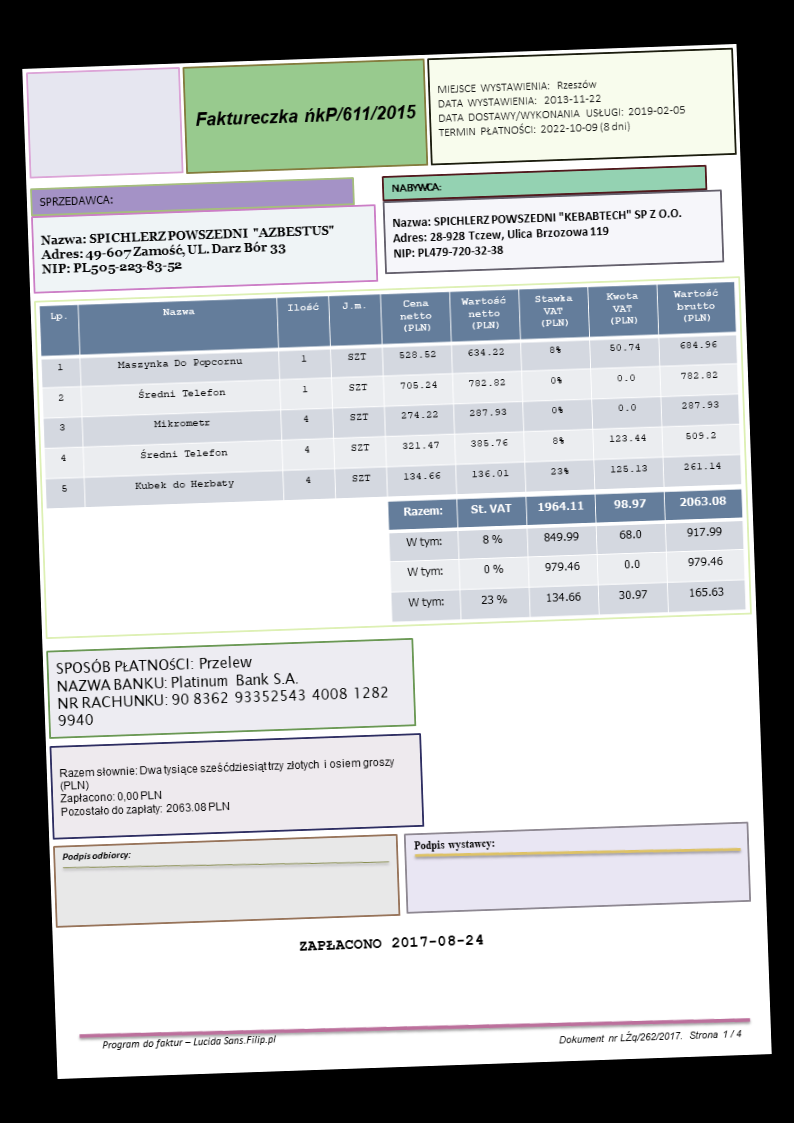Table: (37, 279, 744, 511), (384, 486, 749, 623)
TextBox: (52, 644, 395, 732), (56, 752, 403, 821), (37, 218, 337, 282), (433, 70, 693, 143), (388, 202, 689, 265), (192, 97, 420, 133), (553, 1023, 747, 1052), (296, 930, 487, 956), (97, 1029, 281, 1055), (409, 832, 498, 859), (34, 188, 115, 212), (55, 844, 132, 868), (387, 177, 444, 198)
